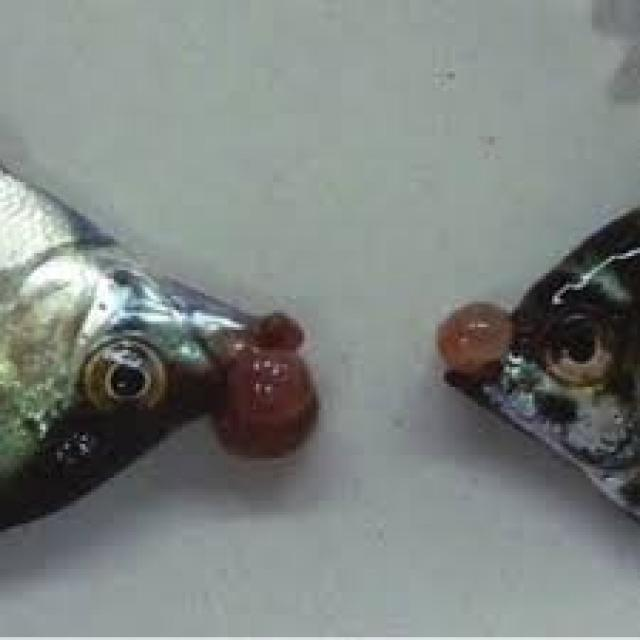EUS Disease: (0, 174, 313, 545), (424, 215, 640, 518)
